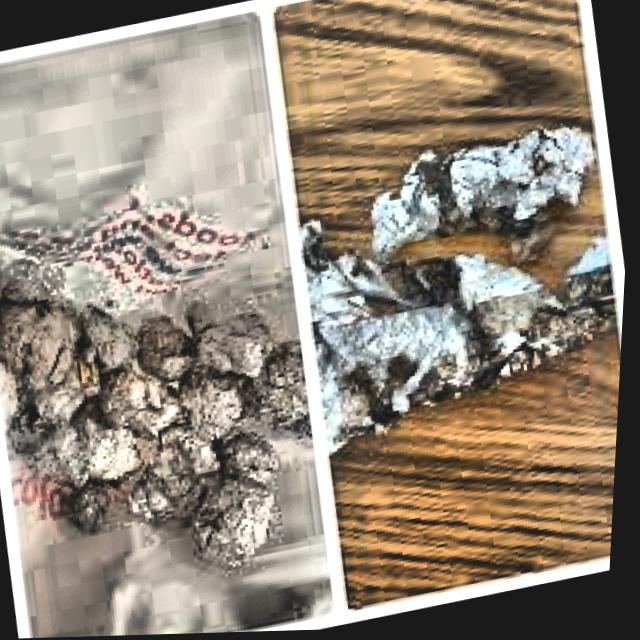Foil: (0, 227, 346, 612)
